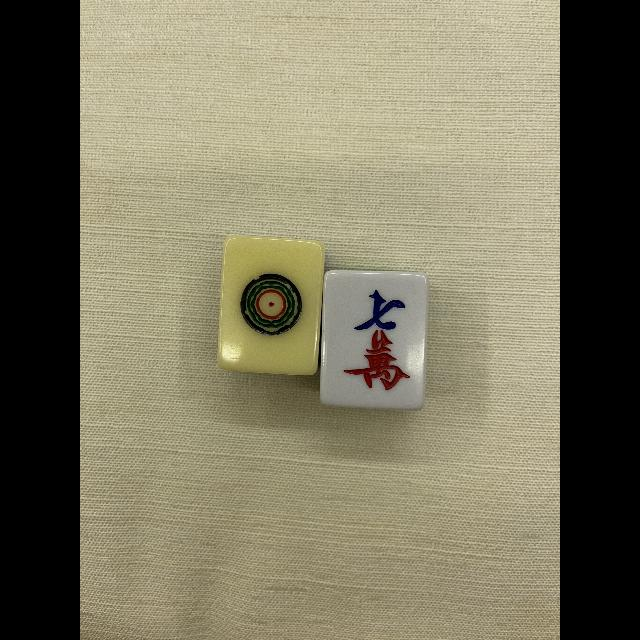c7: (327, 272, 423, 408)
d1: (225, 239, 317, 371)
